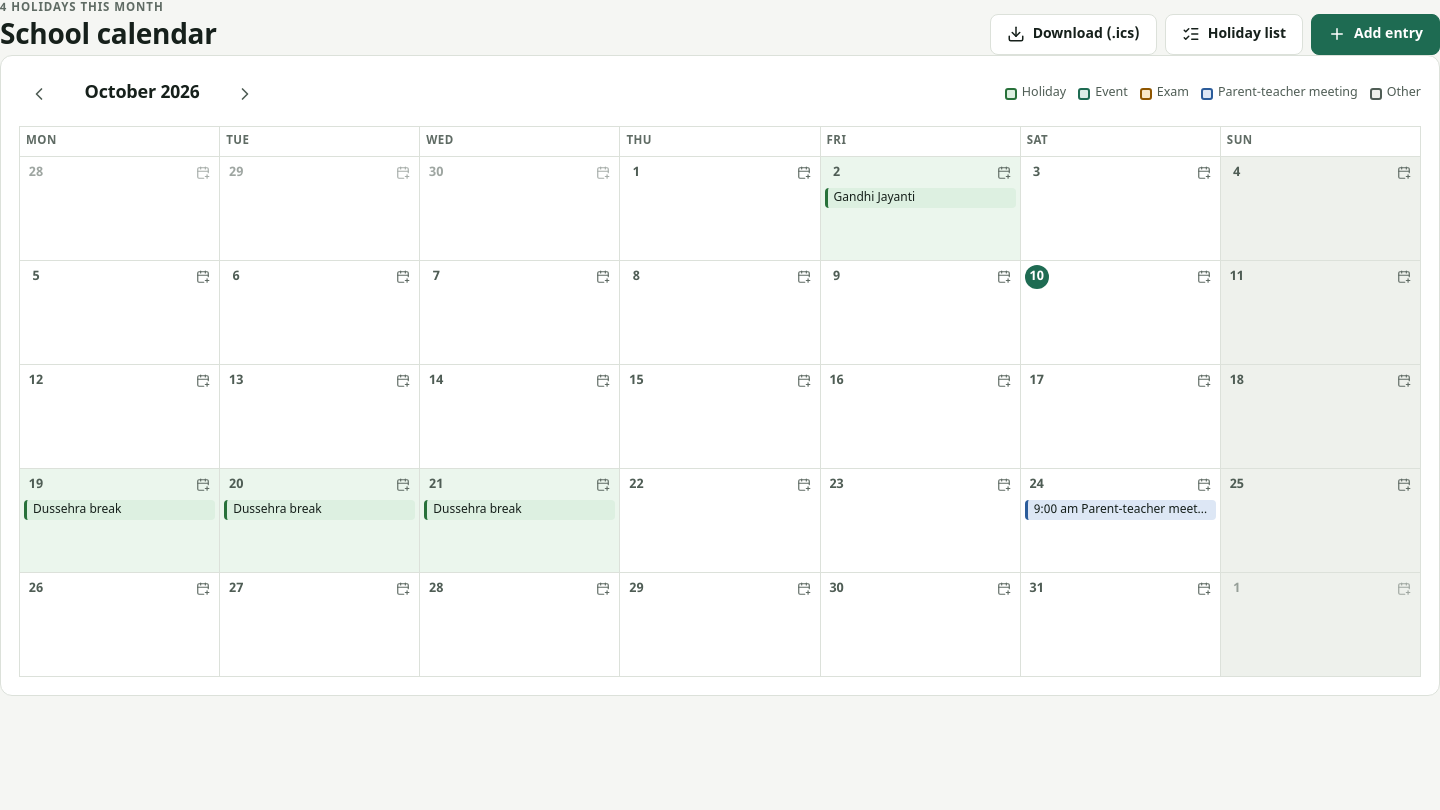
Scenario: CalendarView › adds holidays from the starter list only after festival dates are confirmed
Click the button "Holiday list".
click(1234, 34)  # box 1165,14 -> 1303,55
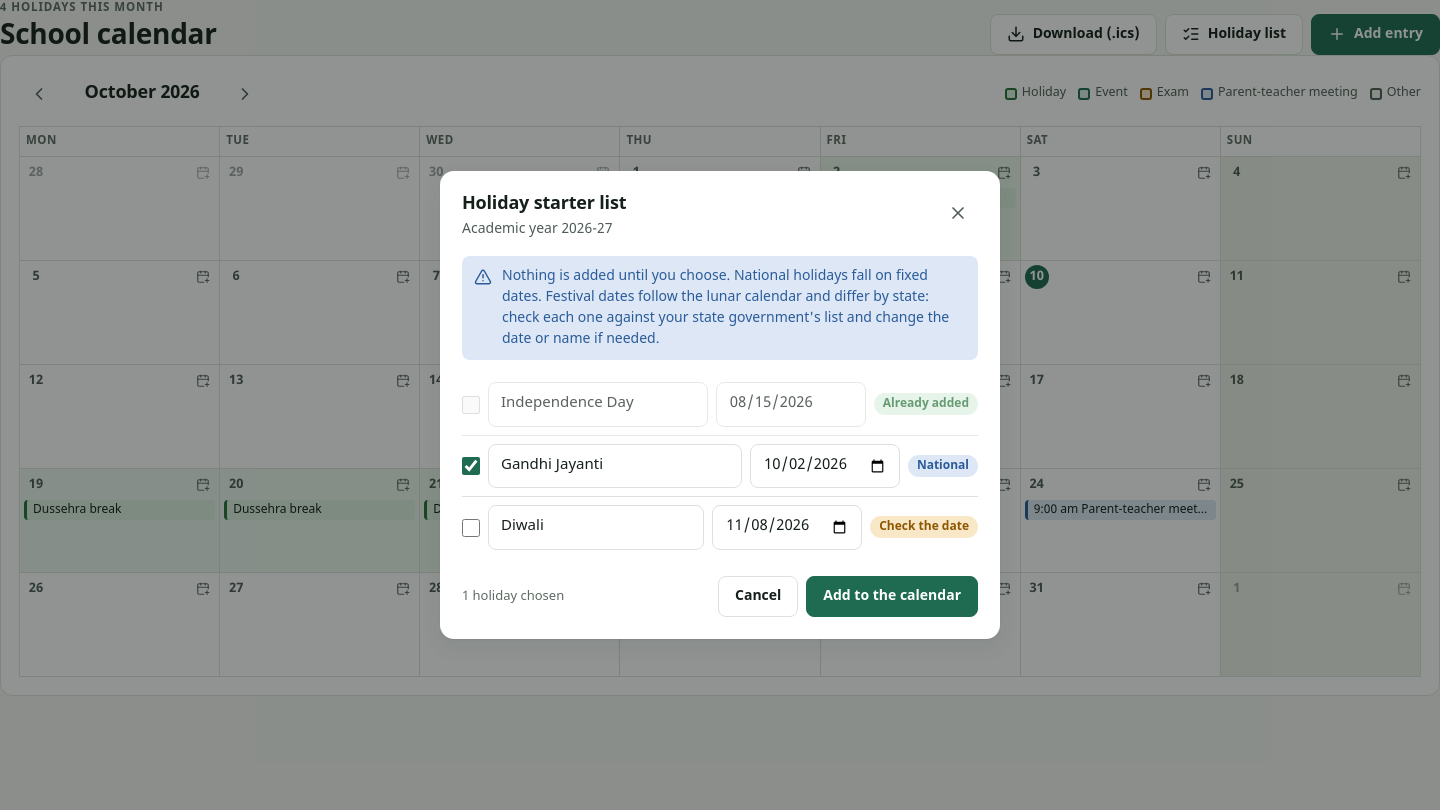
Result: the checkbox named "Independence Day, 15 Aug 2026" is disabled at 462,396 -> 480,414
Result: the checkbox named "Gandhi Jayanti, 2 Oct 2026" is checked at 462,457 -> 480,475
Result: the checkbox named "Diwali, 8 Nov 2026" is not checked
Click the checkbox named "Diwali, 8 Nov 2026".
click(471, 528)  # box 462,519 -> 480,537
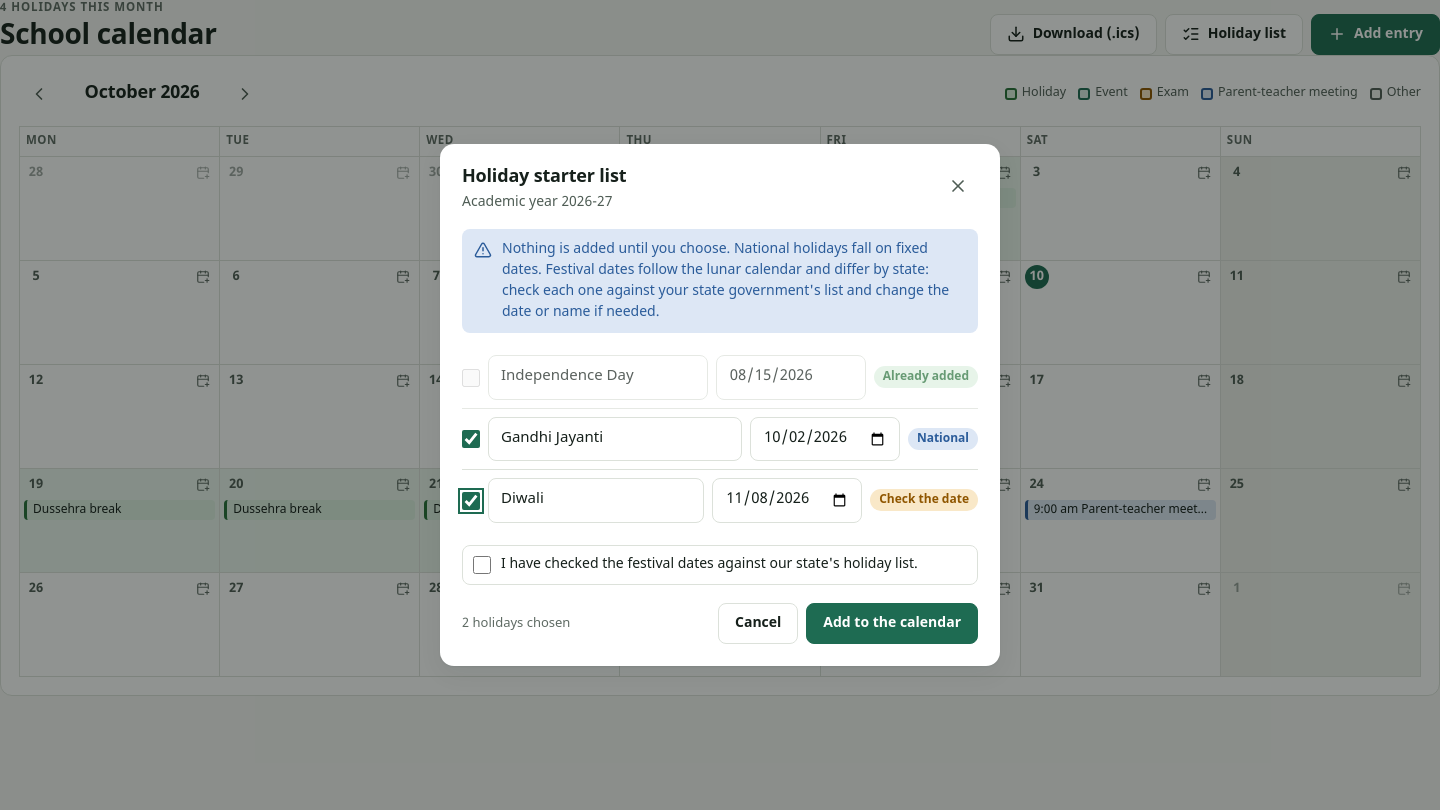
The admin moves Diwali to the state's date.
Type "2026-11-09" into the date field named "Date of Diwali".
click(787, 501); type("2026-11-09")  # box 712,478 -> 862,523
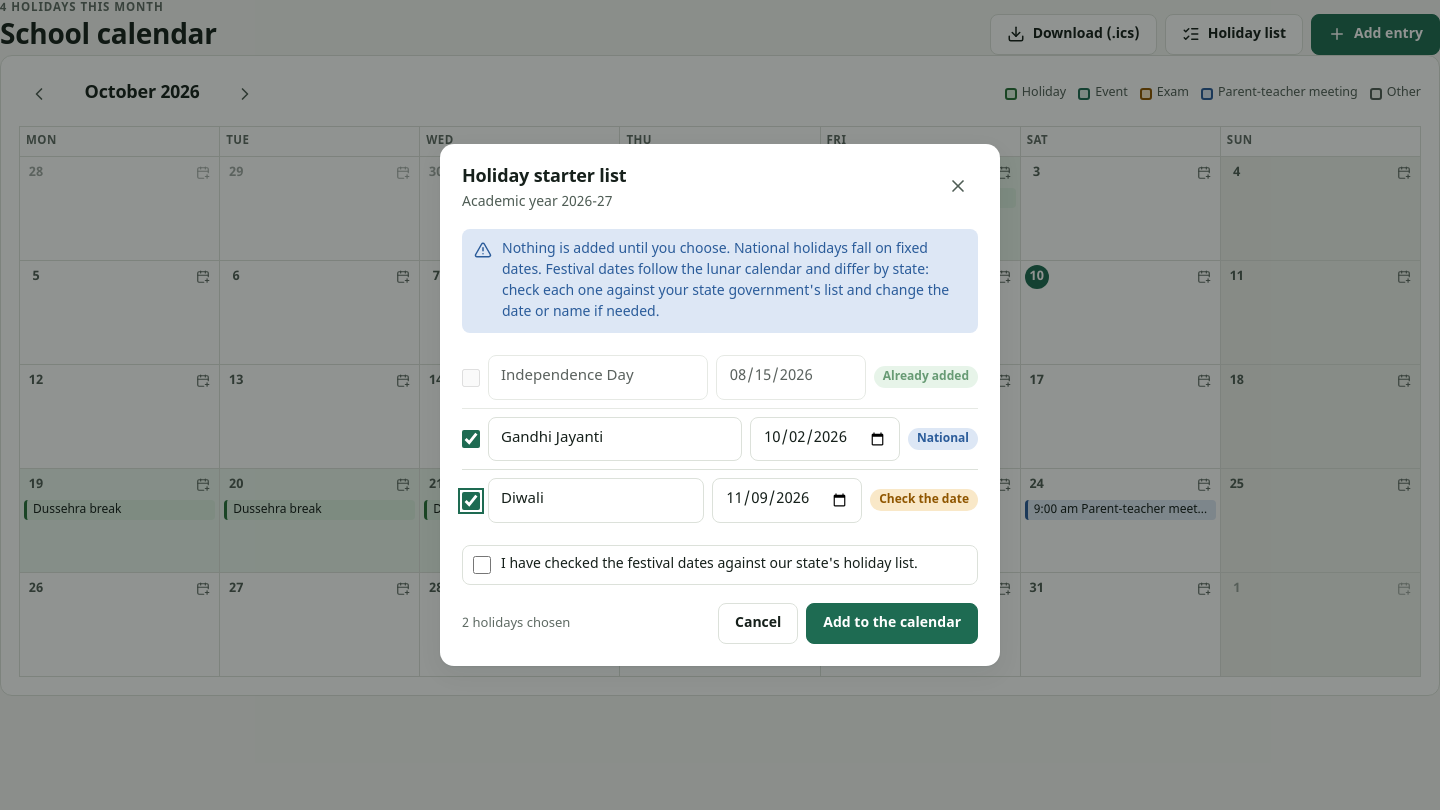
Click the button "Add to the calendar".
click(892, 623)  # box 806,603 -> 978,644
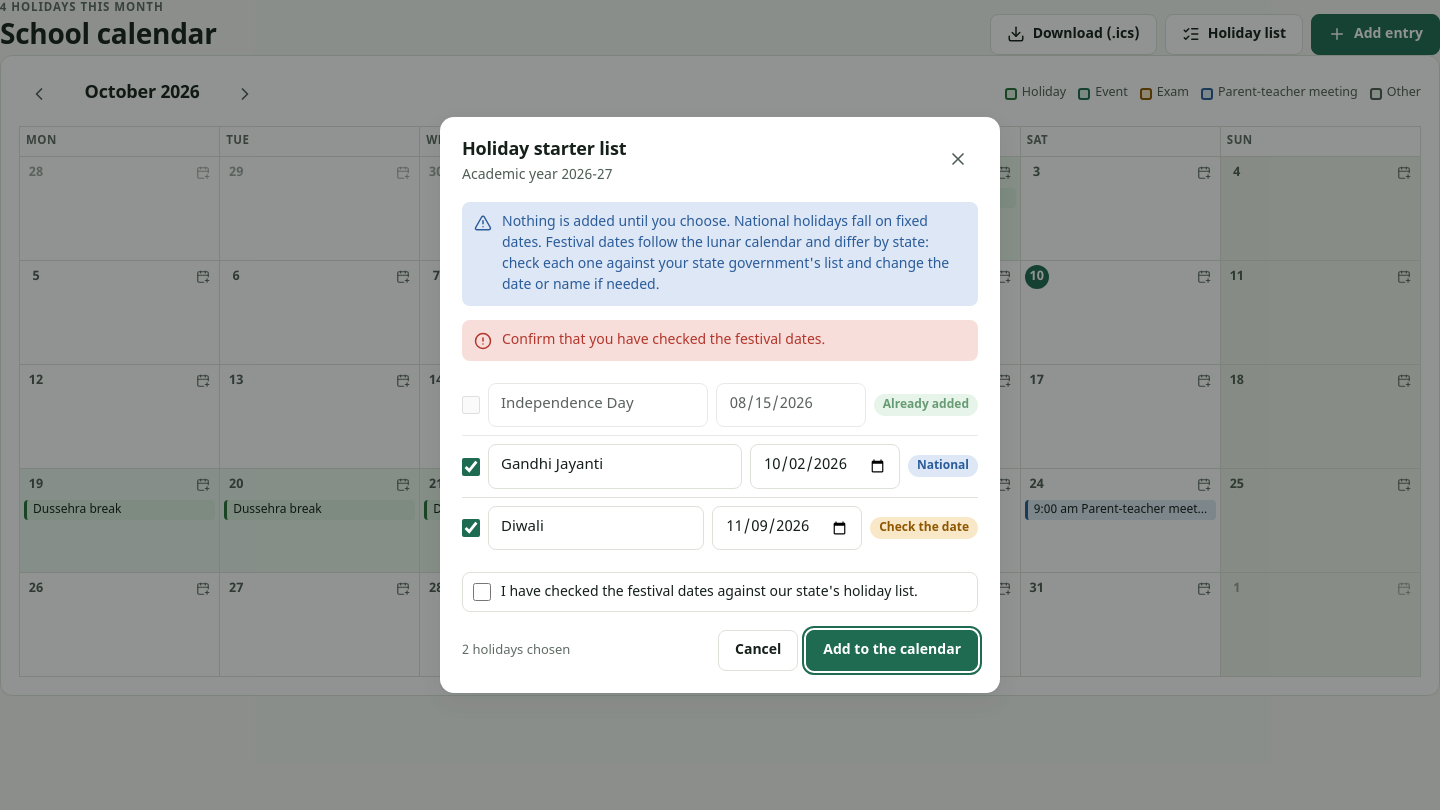
Result: the text "Confirm that you have checked the festival dates." is shown at 502,330 -> 825,351
Click the checkbox labelled "I have checked the festival dates".
click(482, 592)  # box 473,583 -> 491,601
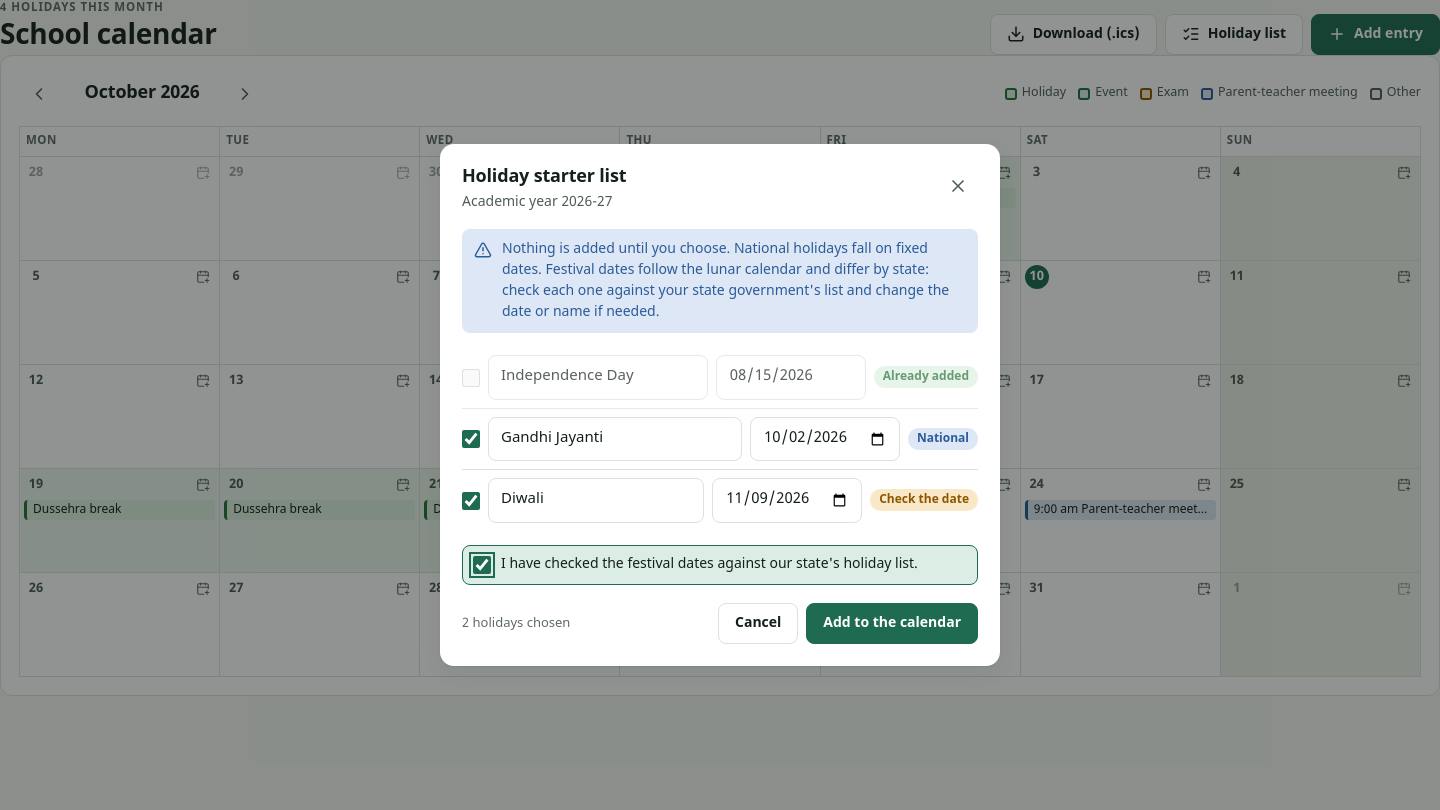
Click the button "Add to the calendar".
click(892, 623)  # box 806,603 -> 978,644
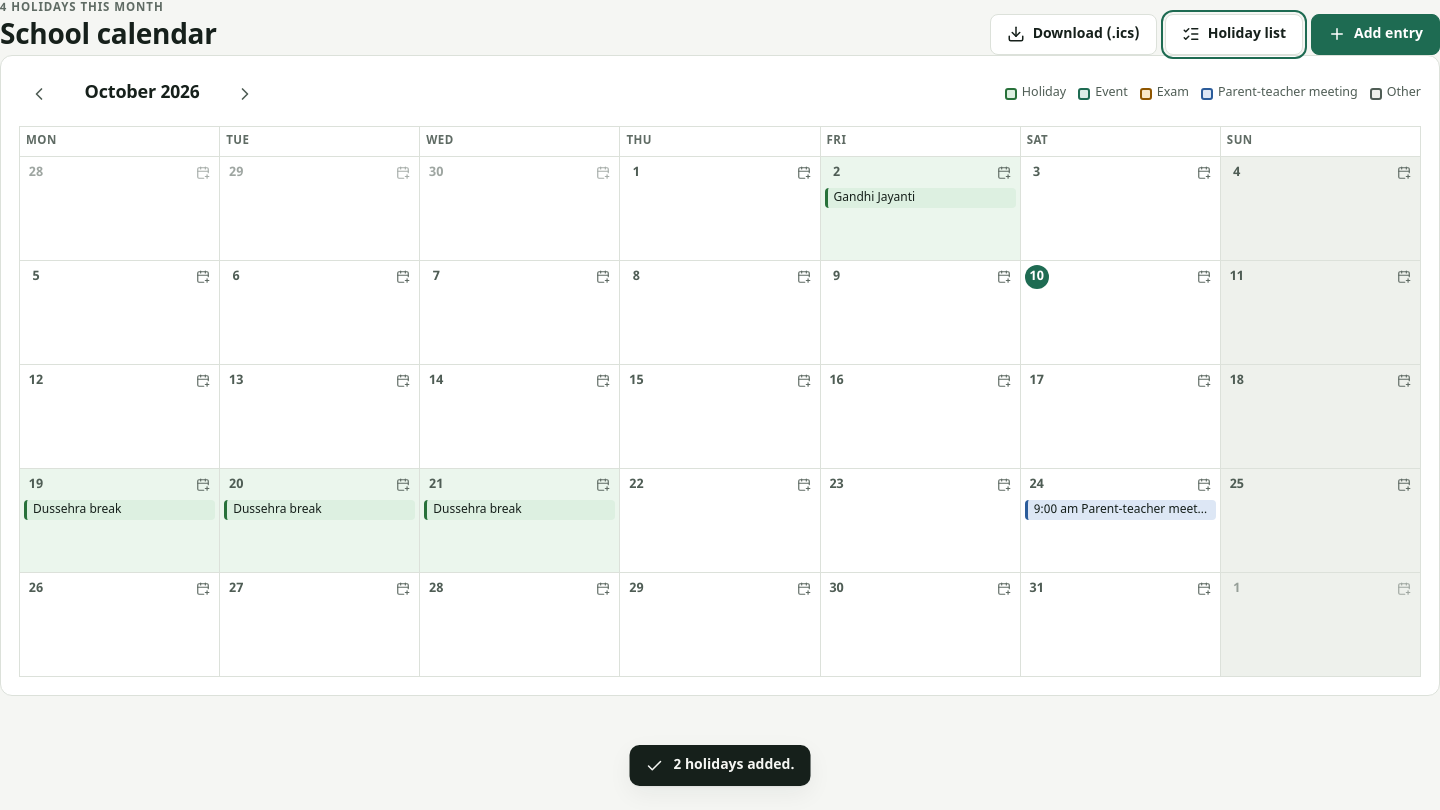
Result: the text "2 holidays added." is shown at 630,745 -> 810,786
